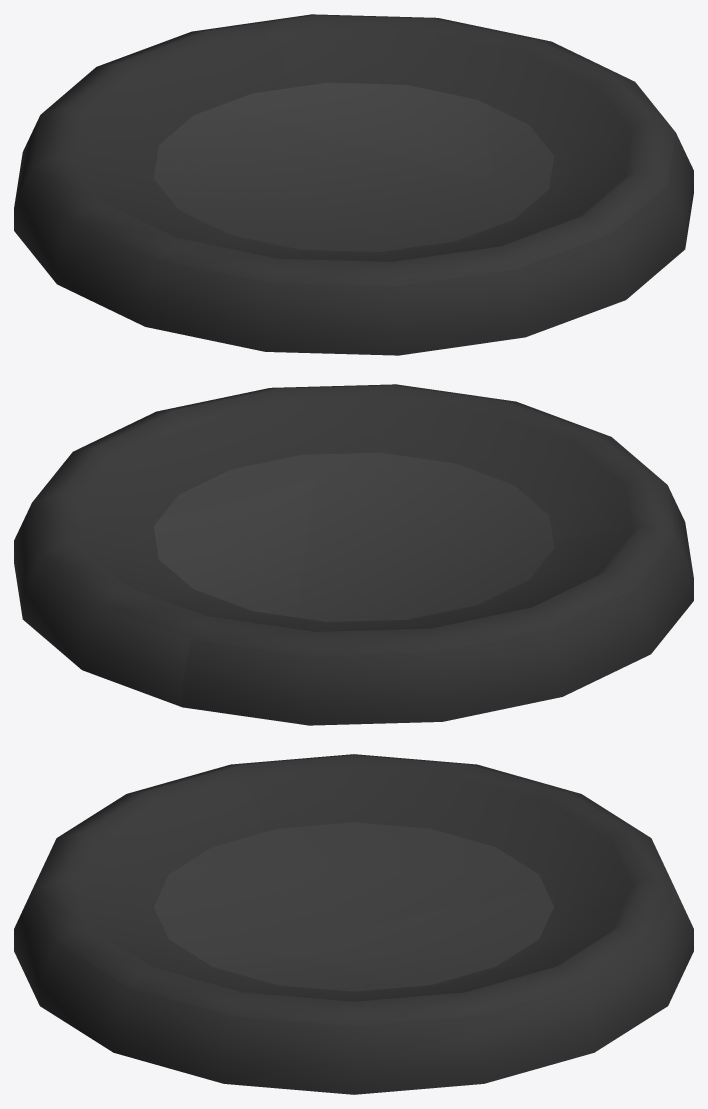
Rendered from DogBedBlack.glb.
The picture shows the model from 3 angles, top to bottom: view 1: azimuth 30°, elevation 25°; view 2: azimuth 150°, elevation 25°; view 3: azimuth 270°, elevation 25°; orthographic projection.
Visible parts, largest first — view 1: DogBedBlack; view 2: DogBedBlack; view 3: DogBedBlack.
Boxes of the visible parts, x1,y1,x2,y2 form: DogBedBlack: [14, 14, 693, 355]; DogBedBlack: [14, 384, 693, 725]; DogBedBlack: [14, 754, 693, 1094].
Size of the model in its own units: 2 by 0.2348 by 2.
Materials: 1 (1 with a texture image).
